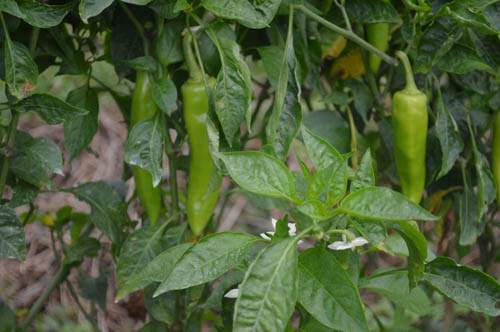ChiliPepper: (183, 80, 218, 238), (134, 68, 166, 226), (393, 91, 428, 213)
